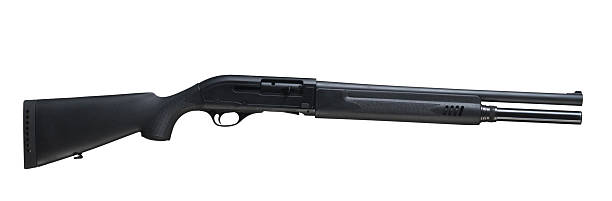shotgun: (20, 72, 588, 179)
